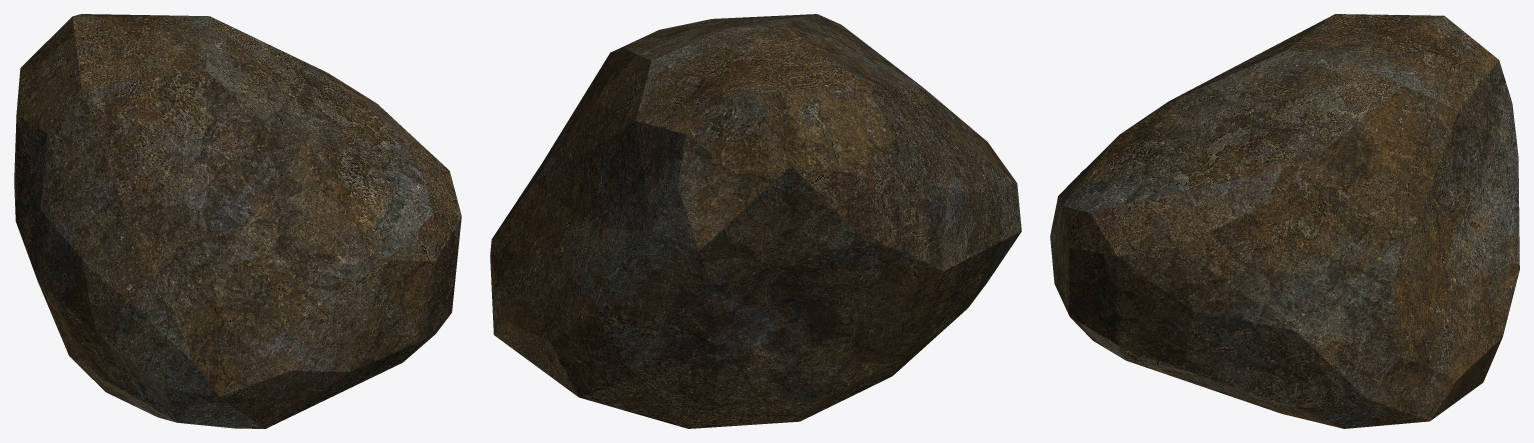
Rendered from stone_3.glb.
The picture shows the model from 3 angles, left to right: view 1: azimuth 30°, elevation 25°; view 2: azimuth 150°, elevation 25°; view 3: azimuth 270°, elevation 25°; orthographic projection. The views are drawn at different scales.
Visible parts, largest first — view 1: stone_3; view 2: stone_3; view 3: stone_3.
Boxes of the visible parts, box(x1,y1,x2,y2) form: stone_3: box(14, 14, 461, 428); stone_3: box(490, 14, 1021, 428); stone_3: box(1050, 14, 1519, 428).
Size of the model in its own units: 2.52 by 2.12 by 2.67.
1 material, 1 textured.
